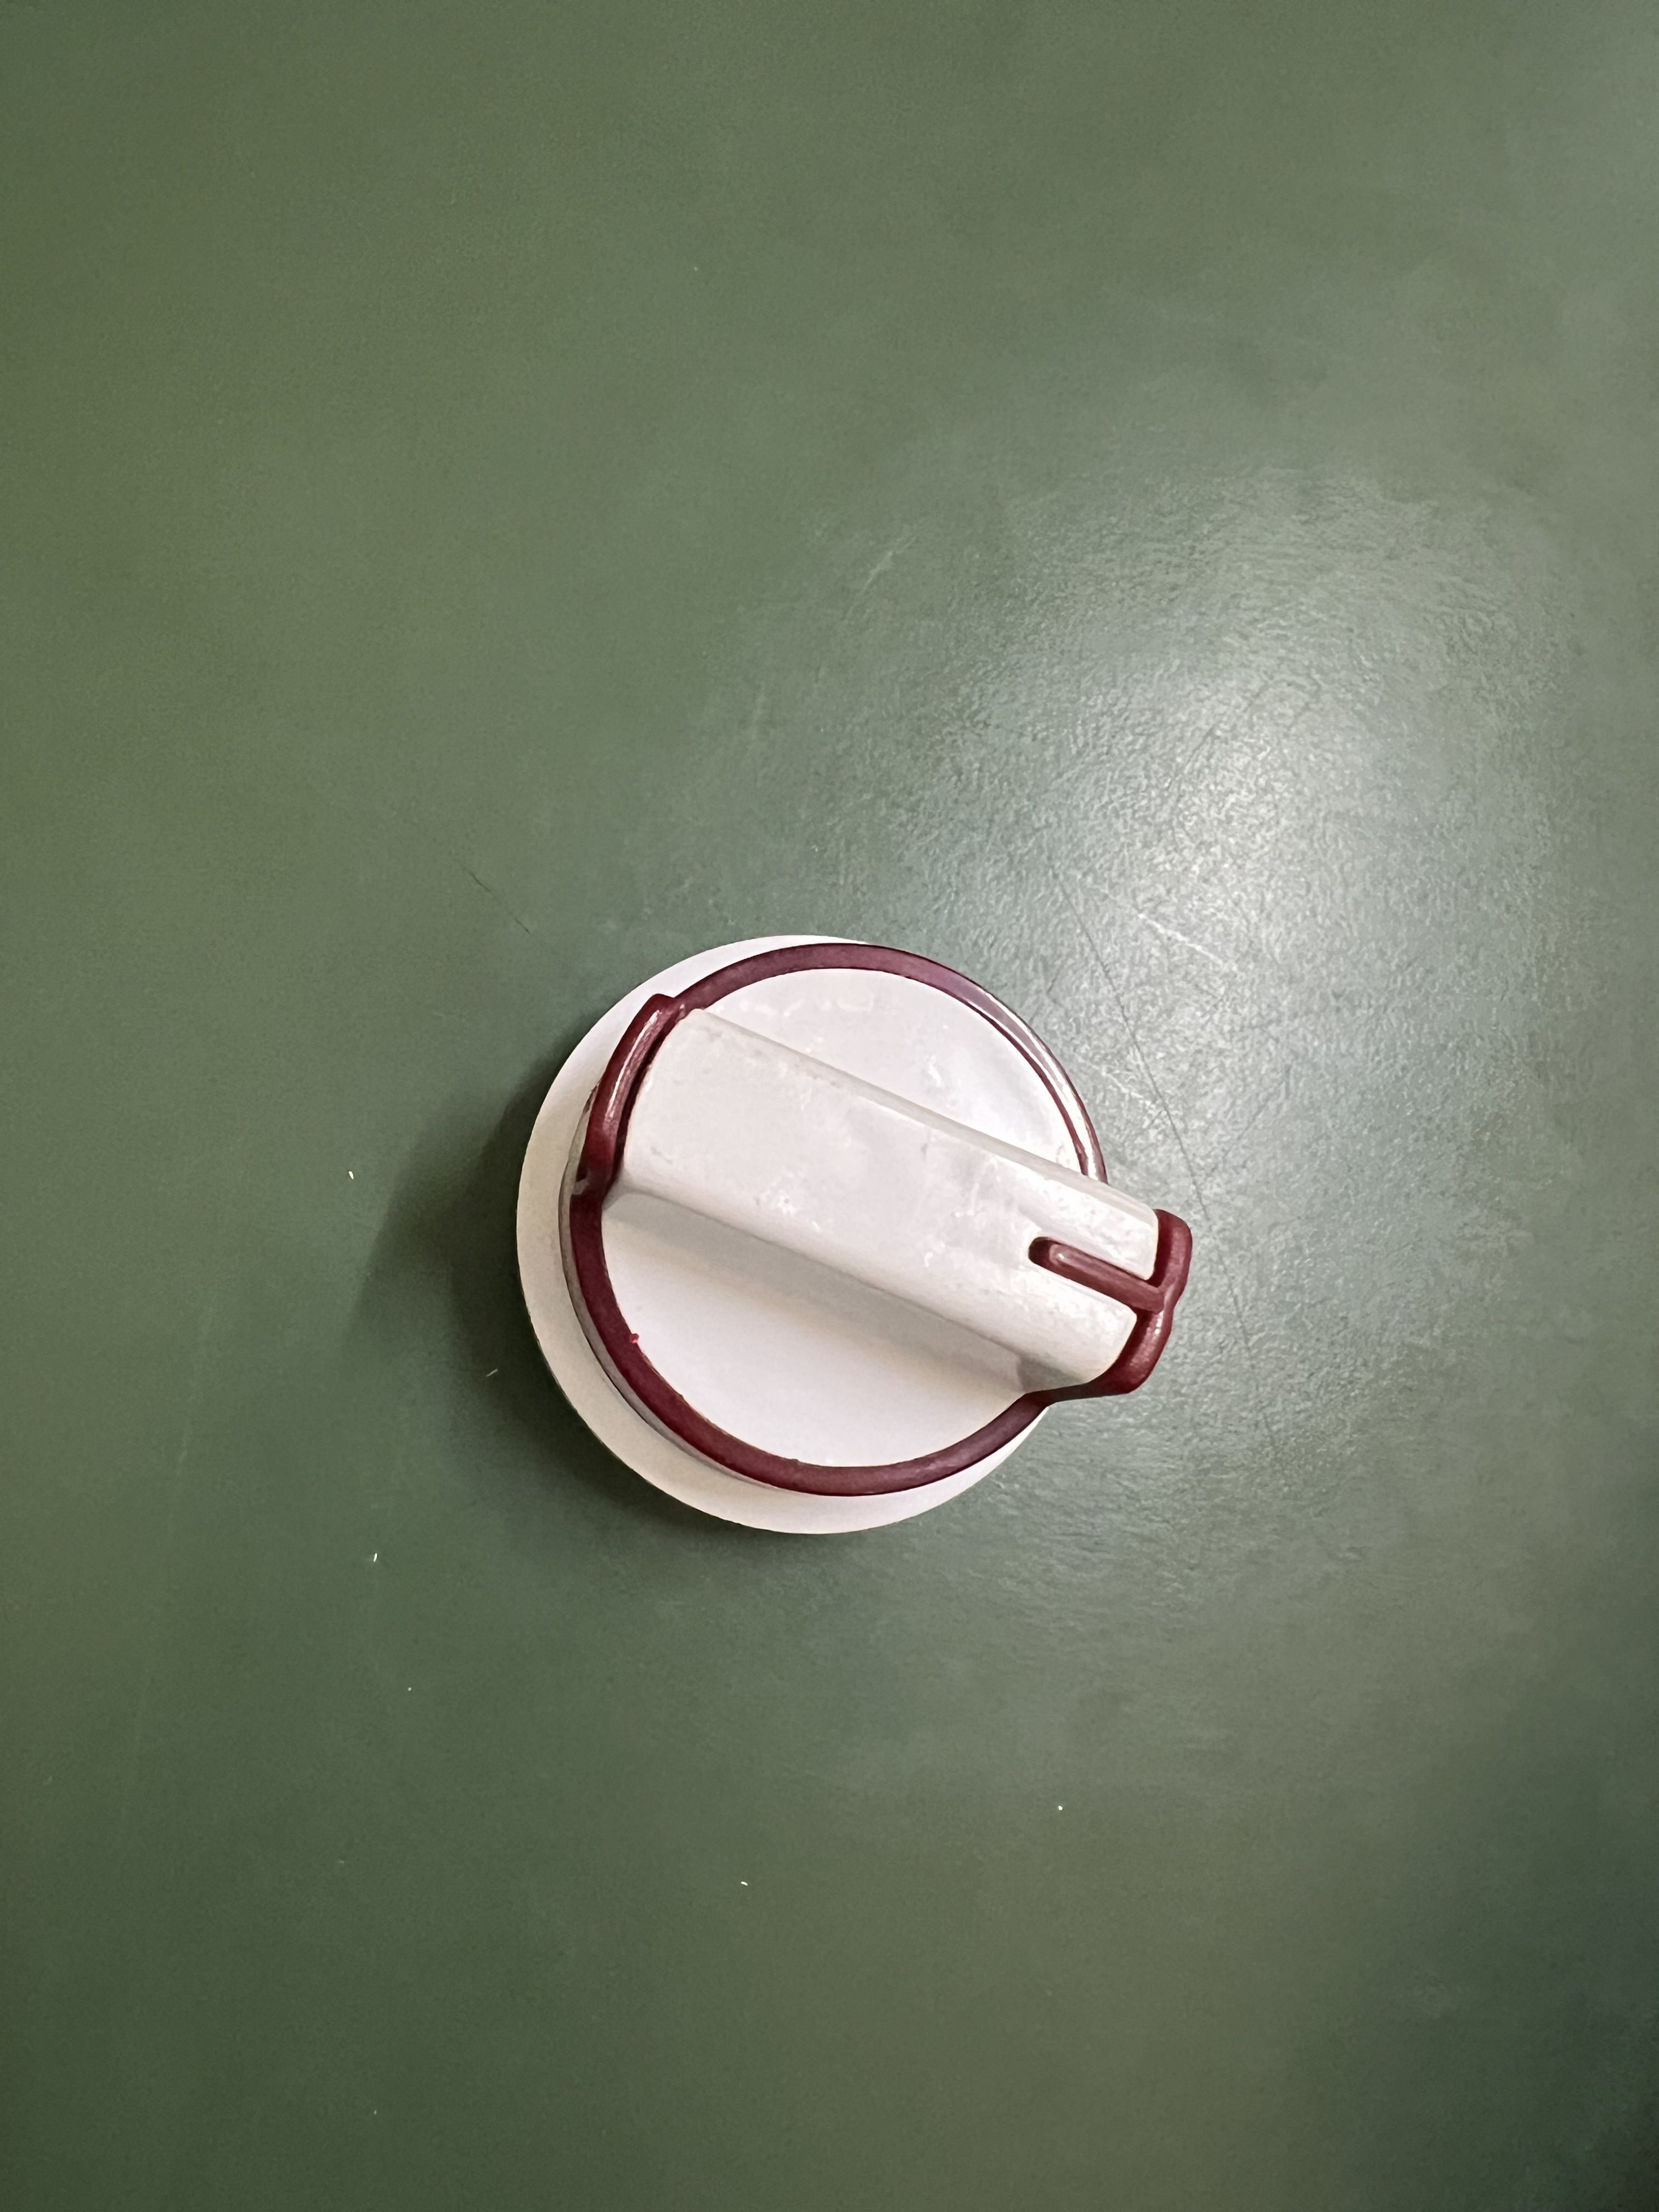regulator: (509, 878, 1194, 1571)
